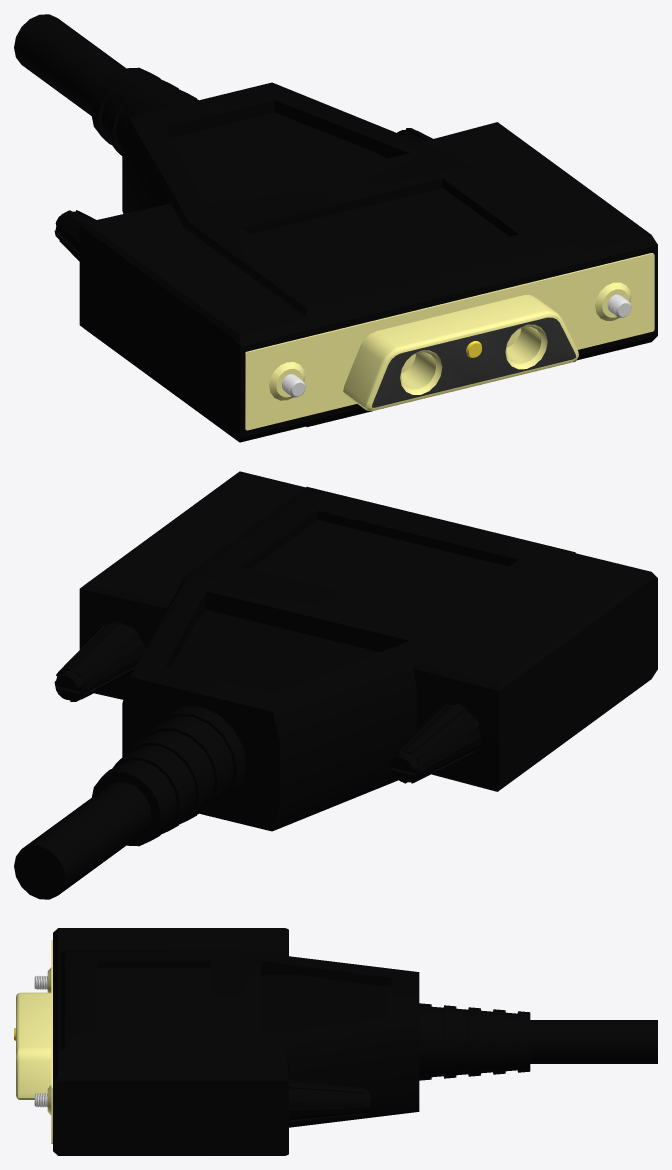
File: Kepala Kabel RRU.fbx
3 renders of one model, top to bottom at view 1: azimuth 30°, elevation 25°; view 2: azimuth 150°, elevation 25°; view 3: azimuth 270°, elevation 25°, orthographic. The views are drawn at different scales.
Parts seen in each view (by area): view 1: Cube, Plane, Cube.001, Cylinder.001, Cylinder.002, Cylinder, Bolt; view 2: Cube, Cylinder.001, Cylinder; view 3: Cube, Cylinder.001, Cube.001, Cylinder, Plane, Bolt.
Boxes of the visible parts, x1=… form: Cube: x1=79, y1=82, x2=657, y2=442; Plane: x1=245, y1=253, x2=654, y2=430; Cube.001: x1=343, y1=295, x2=578, y2=410; Cylinder.001: x1=14, y1=14, x2=198, y2=155; Cylinder.002: x1=269, y1=282, x2=631, y2=400; Cylinder: x1=54, y1=128, x2=432, y2=261; Bolt: x1=282, y1=294, x2=631, y2=397; Cube: x1=79, y1=471, x2=657, y2=831; Cylinder.001: x1=14, y1=706, x2=246, y2=899; Cylinder: x1=54, y1=621, x2=481, y2=783; Cube: x1=53, y1=928, x2=419, y2=1155; Cylinder.001: x1=419, y1=1003, x2=657, y2=1080; Cube.001: x1=16, y1=992, x2=51, y2=1099; Cylinder: x1=289, y1=1080, x2=370, y2=1122; Plane: x1=51, y1=940, x2=52, y2=1143; Bolt: x1=34, y1=976, x2=47, y2=1107.
Size of the model in its own units: 32.67 by 8.93 by 58.8.
